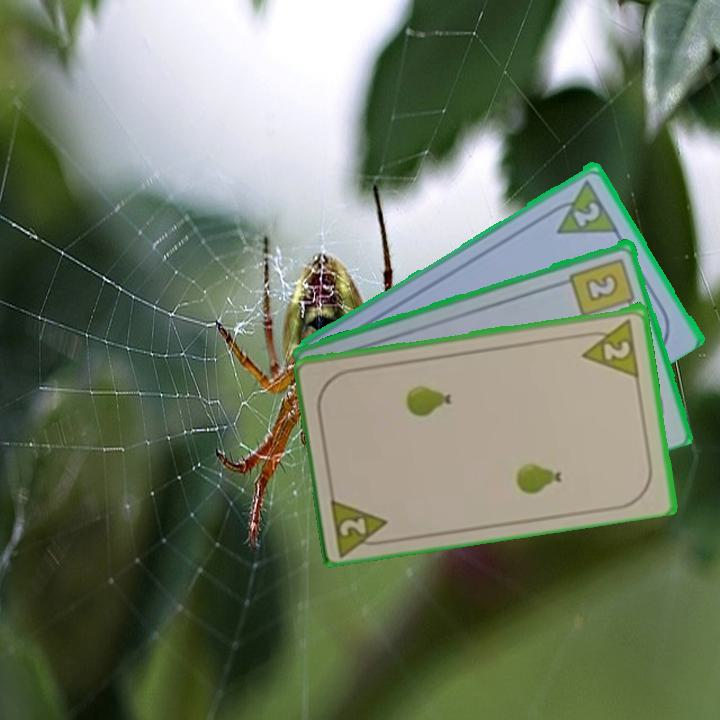2b: (567, 254, 639, 319)
2p: (543, 175, 621, 237), (327, 491, 395, 556), (576, 314, 642, 378)
